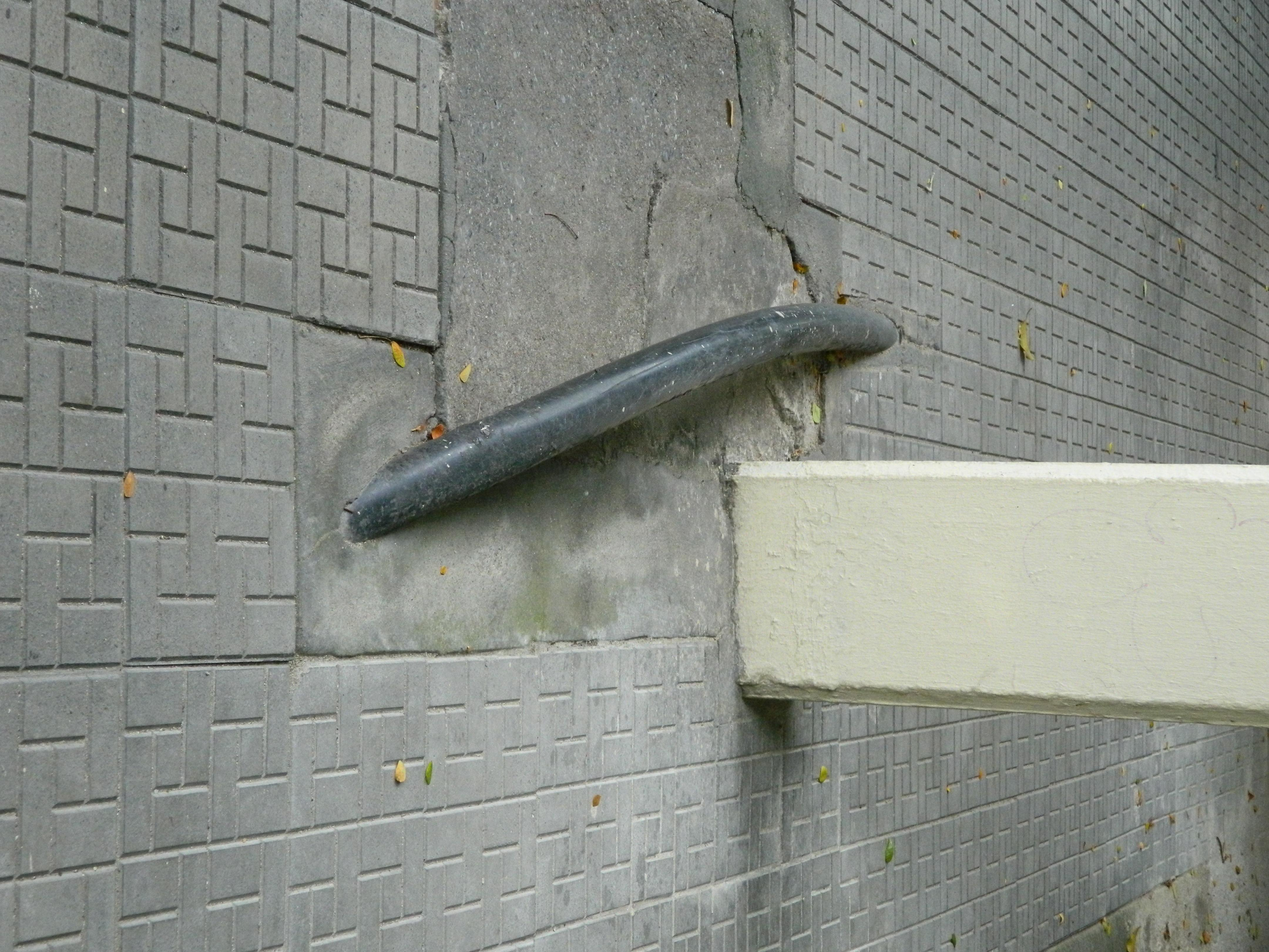wires-only: (389, 282, 706, 714)
